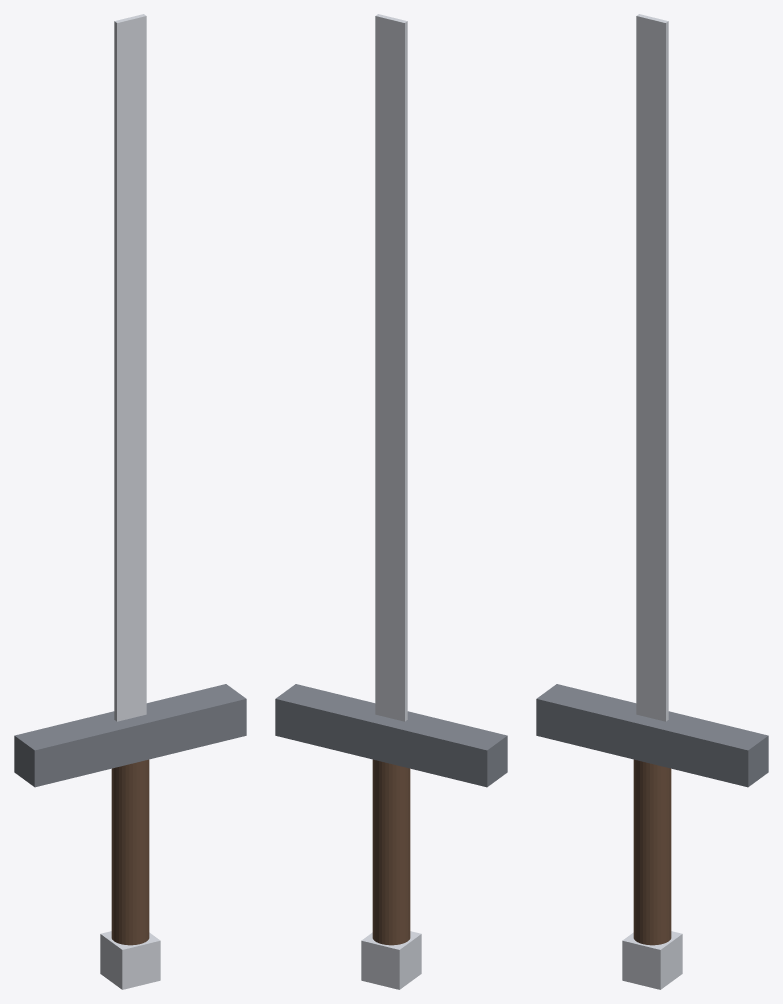
Rendered from weapon_greatsword.glb.
The picture shows the model from 3 angles, left to right: view 1: azimuth 30°, elevation 25°; view 2: azimuth 150°, elevation 25°; view 3: azimuth 330°, elevation 25°; orthographic projection.
Parts seen in each view (by area): view 1: Cube, Cube.001, Cylinder, Cube.002; view 2: Cube, Cube.001, Cylinder, Cube.002; view 3: Cube, Cube.001, Cylinder, Cube.002.
Boxes of the visible parts, left/top/right/bottom form: Cube: left=114, top=14, right=146, bottom=721; Cube.001: left=14, top=684, right=246, bottom=787; Cylinder: left=111, top=759, right=149, bottom=945; Cube.002: left=100, top=931, right=160, bottom=989; Cube: left=375, top=14, right=407, bottom=721; Cube.001: left=275, top=684, right=507, bottom=787; Cylinder: left=372, top=759, right=410, bottom=945; Cube.002: left=361, top=931, right=421, bottom=989; Cube: left=636, top=14, right=668, bottom=721; Cube.001: left=536, top=684, right=768, bottom=787; Cylinder: left=633, top=759, right=671, bottom=945; Cube.002: left=622, top=931, right=682, bottom=989.
Size of the model in its own units: 0.36 by 1.56 by 0.065.
